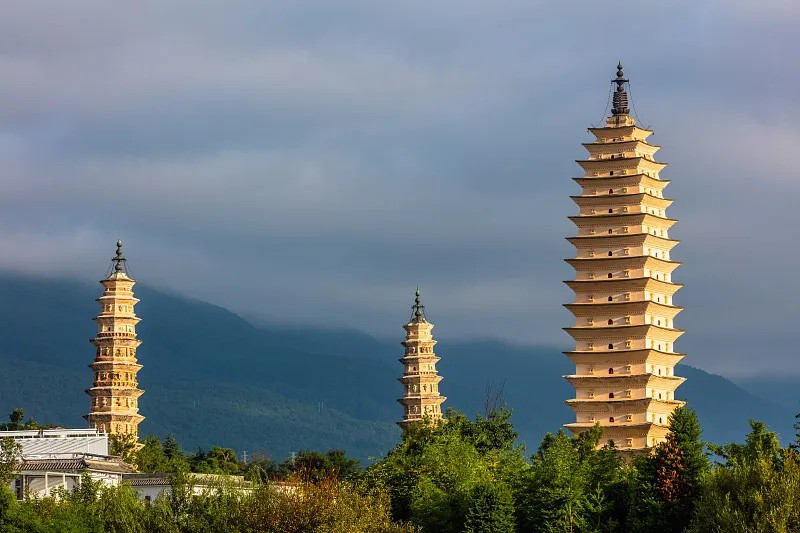ThreePagoda: (561, 59, 687, 455)
